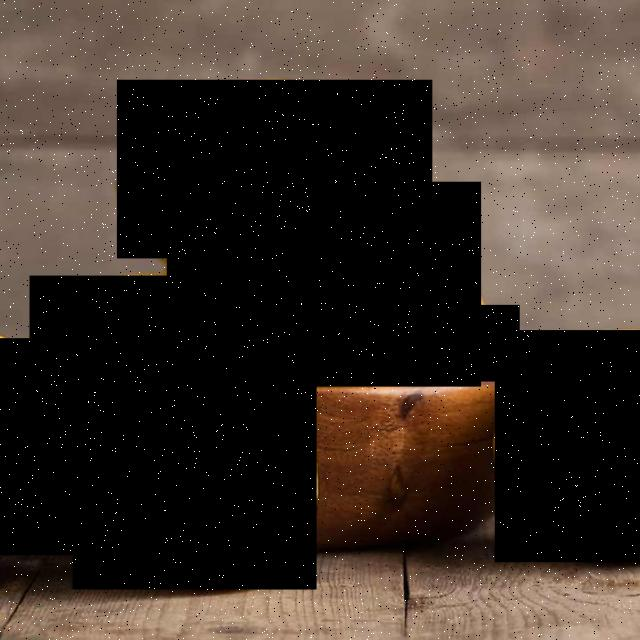Lemon: (167, 182, 481, 387), (73, 352, 317, 590), (117, 80, 432, 258), (495, 330, 640, 562), (0, 338, 83, 555), (30, 276, 179, 382), (439, 305, 520, 382)
